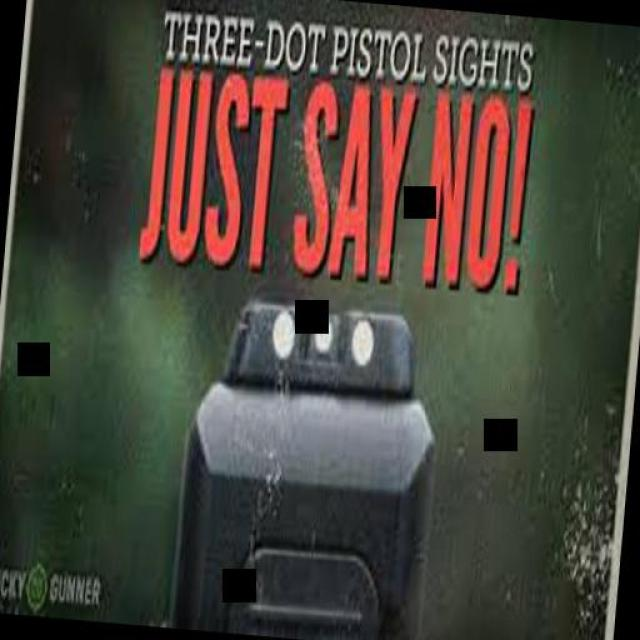gun: (163, 282, 445, 640)
